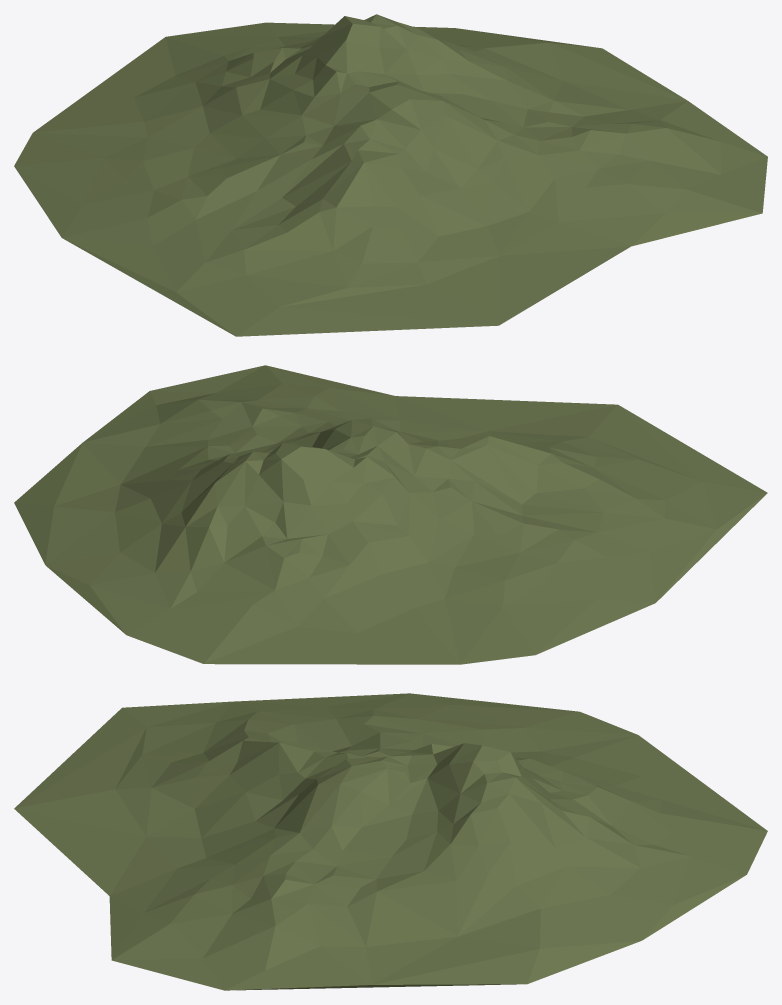
Rendered from SM_Envr_Nature_Terrain_Ground_Mound_01.fbx.
3 renders of one model, top to bottom at view 1: azimuth 30°, elevation 25°; view 2: azimuth 150°, elevation 25°; view 3: azimuth 270°, elevation 25°, orthographic. The views are drawn at different scales.
Visible parts, largest first — view 1: SM_Envr_Nature_Terrain_Ground_Mound_01; view 2: SM_Envr_Nature_Terrain_Ground_Mound_01; view 3: SM_Envr_Nature_Terrain_Ground_Mound_01.
Boxes of the visible parts, bbox=[...] form: SM_Envr_Nature_Terrain_Ground_Mound_01: bbox=[14, 14, 767, 336]; SM_Envr_Nature_Terrain_Ground_Mound_01: bbox=[14, 365, 767, 664]; SM_Envr_Nature_Terrain_Ground_Mound_01: bbox=[14, 693, 767, 990].
Bounding box in the file's own units: 1156 × 194 × 1239.
